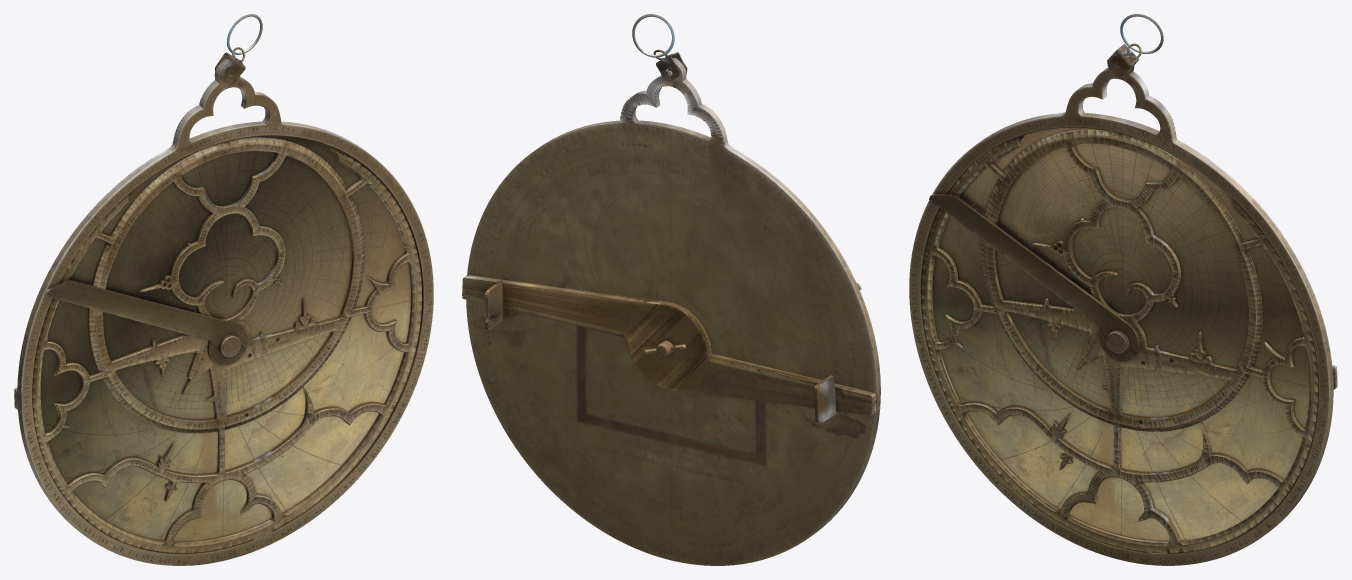
File: Astrolabio.fbx
3 views of the same model, side by side, from view 1: azimuth 30°, elevation 25°; view 2: azimuth 150°, elevation 25°; view 3: azimuth 330°, elevation 25° (orthographic). The views are drawn at different scales.
Visible parts, largest first — view 1: Astrolabio, FrontGrill, Ponteiro, Pendente; view 2: Astrolabio, Back, Pendente; view 3: Astrolabio, FrontGrill, Ponteiro, Pendente.
Boxes of the visible parts, x1=… form: Astrolabio: x1=17, y1=63, x2=433, y2=565; FrontGrill: x1=32, y1=137, x2=422, y2=553; Ponteiro: x1=46, y1=280, x2=247, y2=365; Pendente: x1=214, y1=14, x2=262, y2=84; Astrolabio: x1=466, y1=58, x2=880, y2=565; Back: x1=462, y1=275, x2=876, y2=423; Pendente: x1=632, y1=14, x2=687, y2=81; Astrolabio: x1=909, y1=67, x2=1333, y2=565; FrontGrill: x1=921, y1=130, x2=1318, y2=553; Ponteiro: x1=929, y1=195, x2=1139, y2=361; Pendente: x1=1107, y1=14, x2=1163, y2=76.
Size of the model in its own units: 38.71 by 48.42 by 4.44.
Materials: 1 (1 with a texture image).
